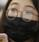with_mask: (2, 1, 39, 42)
